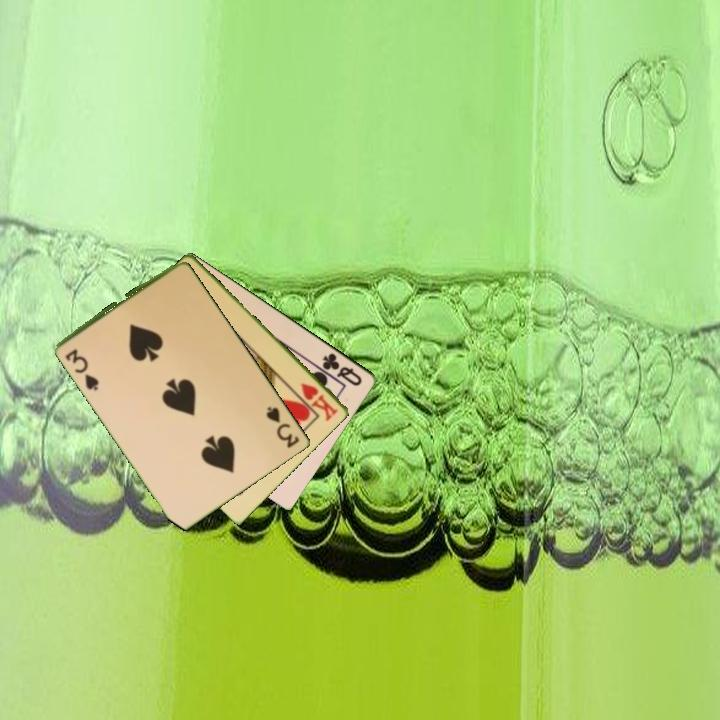3s: (263, 403, 303, 451), (62, 345, 102, 393)
Kh: (297, 379, 342, 424)
Qc: (319, 349, 365, 389)
